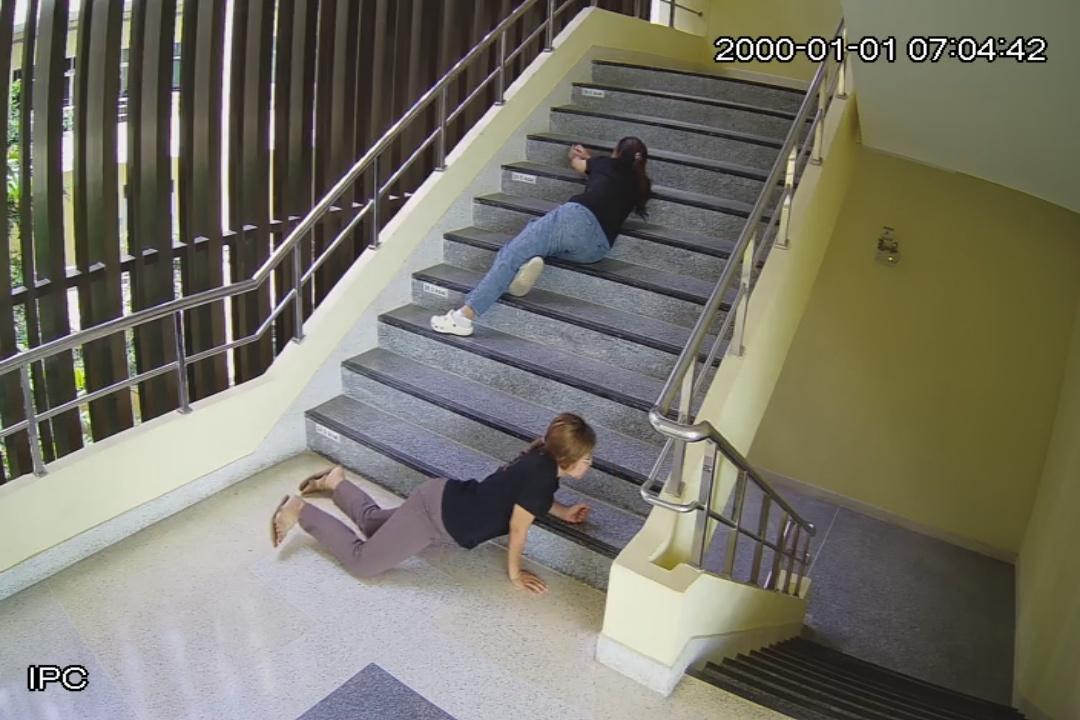fall: (269, 414, 597, 595), (433, 135, 650, 336)
